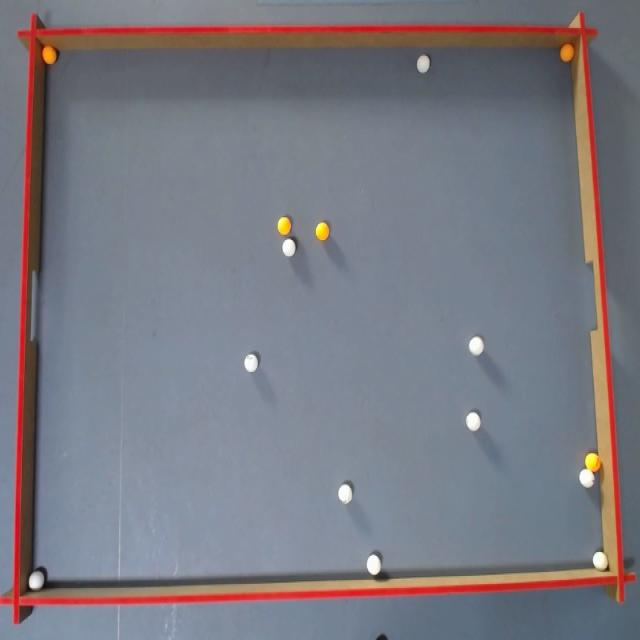orange_ball: (585, 452, 600, 472), (42, 46, 57, 64), (560, 44, 574, 62), (315, 222, 329, 240), (278, 217, 290, 234)
white_ball: (28, 569, 45, 591), (367, 553, 381, 575), (466, 411, 481, 431), (593, 551, 608, 571), (469, 336, 483, 356), (338, 484, 352, 504), (244, 353, 258, 372), (580, 469, 594, 488), (282, 238, 296, 256), (416, 54, 429, 73)
